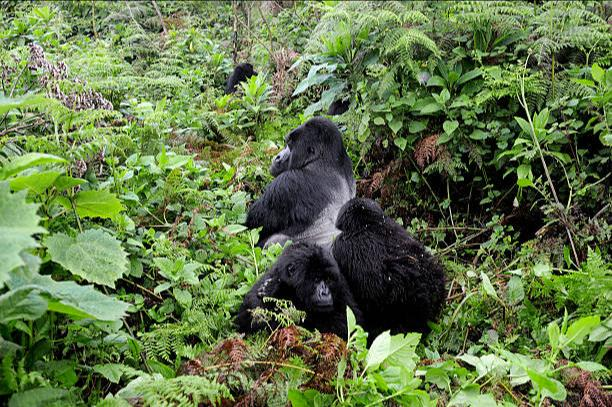goriile_montagne: (334, 188, 460, 324), (240, 234, 355, 358), (245, 109, 348, 237)
